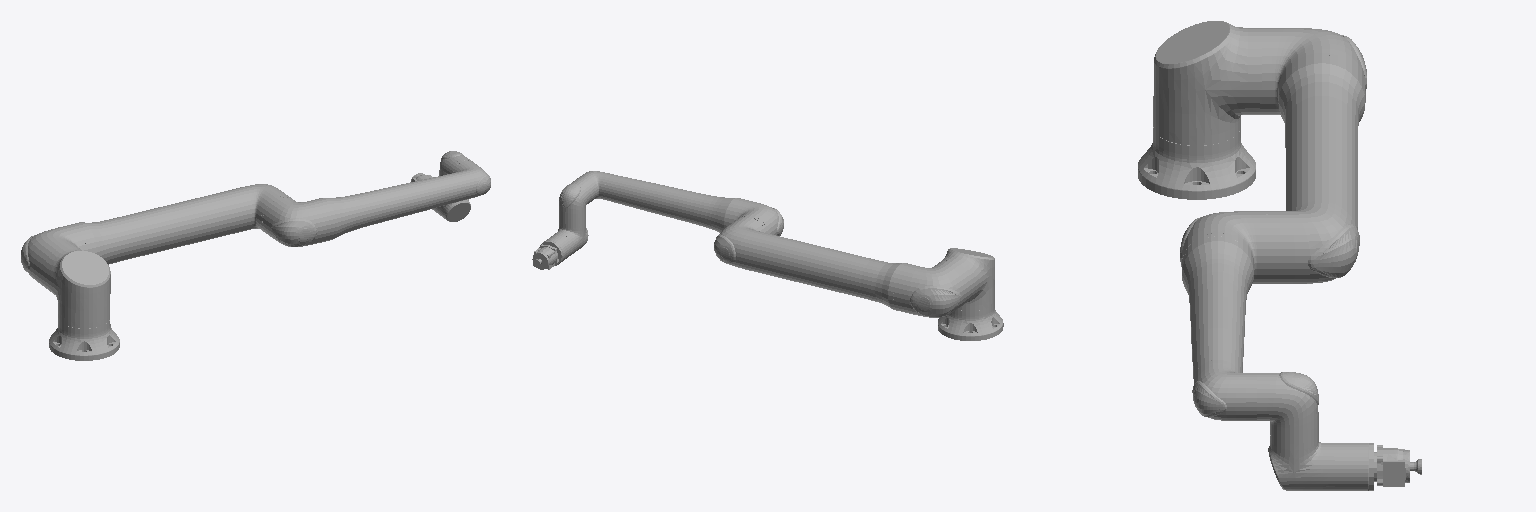
robot.urdf — ur20_robot:
<?xml version="1.0" ?>
<!-- =================================================================================== -->
<!-- |    This document was autogenerated by xacro from ur20.xacro                     | -->
<!-- |    EDITING THIS FILE BY HAND IS NOT RECOMMENDED                                 | -->
<!-- =================================================================================== -->
<robot name="ur20_robot">
  <!--
    Base UR robot series xacro macro.

    NOTE: this is NOT a URDF. It cannot directly be loaded by consumers
    expecting a flattened '.urdf' file. See the top-level '.xacro' for that
    (but note: that .xacro must still be processed by the xacro command).

    For use in '.launch' files: use one of the 'load_urX.launch' convenience
    launch files.

    This file models the base kinematic chain of a UR robot, which then gets
    parameterised by various configuration files to convert it into a UR3(e),
    UR5(e), UR10(e), UR16e, UR20 or UR30.

    NOTE: the default kinematic parameters (ie: link lengths, frame locations,
    offets, etc) do not correspond to any particular robot. They are defaults
    only. There WILL be non-zero offsets between the Forward Kinematics results
    in TF (ie: robot_state_publisher) and the values reported by the Teach
    Pendant.

    For accurate (and robot-specific) transforms, the 'kinematics_parameters_file'
    parameter MUST point to a .yaml file containing the appropriate values for
    the targetted robot.

    If using the UniversalRobots/Universal_Robots_ROS_Driver, follow the steps
    described in the readme of that repository to extract the kinematic
    calibration from the controller and generate the required .yaml file.

    Main author of the migration to yaml configs: Ludovic Delval.

    Contributors to previous versions (in no particular order):

     - Felix Messmer
     - Kelsey Hawkins
     - Wim Meeussen
     - Shaun Edwards
     - Nadia Hammoudeh Garcia
     - Dave Hershberger
     - G. vd. Hoorn
     - Philip Long
     - Dave Coleman
     - Miguel Prada
     - Mathias Luedtke
     - Marcel Schnirring
     - Felix von Drigalski
     - Felix Exner
     - Jimmy Da Silva
     - Ajit Krisshna N L
     - Muhammad Asif Rana
  -->
  <!--
    NOTE: the macro defined in this file is NOT part of the public API of this
          package. Users CANNOT rely on this file being available, or stored in
          this location. Nor can they rely on the existence of the macro.
  -->
  <transmission name="shoulder_pan_trans">
    <type>transmission_interface/SimpleTransmission</type>
    <joint name="shoulder_pan_joint">
      <hardwareInterface>hardware_interface/PositionJointInterface</hardwareInterface>
    </joint>
    <actuator name="shoulder_pan_motor">
      <mechanicalReduction>1</mechanicalReduction>
    </actuator>
  </transmission>
  <transmission name="shoulder_lift_trans">
    <type>transmission_interface/SimpleTransmission</type>
    <joint name="shoulder_lift_joint">
      <hardwareInterface>hardware_interface/PositionJointInterface</hardwareInterface>
    </joint>
    <actuator name="shoulder_lift_motor">
      <mechanicalReduction>1</mechanicalReduction>
    </actuator>
  </transmission>
  <transmission name="elbow_trans">
    <type>transmission_interface/SimpleTransmission</type>
    <joint name="elbow_joint">
      <hardwareInterface>hardware_interface/PositionJointInterface</hardwareInterface>
    </joint>
    <actuator name="elbow_motor">
      <mechanicalReduction>1</mechanicalReduction>
    </actuator>
  </transmission>
  <transmission name="wrist_1_trans">
    <type>transmission_interface/SimpleTransmission</type>
    <joint name="wrist_1_joint">
      <hardwareInterface>hardware_interface/PositionJointInterface</hardwareInterface>
    </joint>
    <actuator name="wrist_1_motor">
      <mechanicalReduction>1</mechanicalReduction>
    </actuator>
  </transmission>
  <transmission name="wrist_2_trans">
    <type>transmission_interface/SimpleTransmission</type>
    <joint name="wrist_2_joint">
      <hardwareInterface>hardware_interface/PositionJointInterface</hardwareInterface>
    </joint>
    <actuator name="wrist_2_motor">
      <mechanicalReduction>1</mechanicalReduction>
    </actuator>
  </transmission>
  <transmission name="wrist_3_trans">
    <type>transmission_interface/SimpleTransmission</type>
    <joint name="wrist_3_joint">
      <hardwareInterface>hardware_interface/PositionJointInterface</hardwareInterface>
    </joint>
    <actuator name="wrist_3_motor">
      <mechanicalReduction>1</mechanicalReduction>
    </actuator>
  </transmission>
  <!-- links: main serial chain -->
  <link name="base_link"/>
  <link name="base_link_inertia">
    <visual>
      <origin rpy="0 0 3.141592653589793" xyz="0 0 0"/>
      <geometry>
        <mesh filename="package://ur_description/meshes/ur20/visual/base.obj"/>
      </geometry>
      <material name="LightGrey">
        <color rgba="0.7 0.7 0.7 1.0"/>
      </material>
    </visual>
    <collision>
      <origin rpy="0 0 3.141592653589793" xyz="0 0 0"/>
      <geometry>
        <mesh filename="package://ur_description/meshes/ur20/collision/base.stl"/>
      </geometry>
    </collision>
    <inertial>
      <mass value="4.0"/>
      <origin rpy="0 0 0" xyz="0 0 0"/>
      <inertia ixx="0.0061063308908" ixy="0.0" ixz="0.0" iyy="0.0061063308908" iyz="0.0" izz="0.01125"/>
    </inertial>
  </link>
  <link name="shoulder_link">
    <visual>
      <origin rpy="0 0 3.141592653589793" xyz="0 0 0"/>
      <geometry>
        <mesh filename="package://ur_description/meshes/ur20/visual/shoulder.obj"/>
      </geometry>
      <material name="LightGrey">
        <color rgba="0.7 0.7 0.7 1.0"/>
      </material>
    </visual>
    <collision>
      <origin rpy="0 0 3.141592653589793" xyz="0 0 0"/>
      <geometry>
        <mesh filename="package://ur_description/meshes/ur20/collision/shoulder.stl"/>
      </geometry>
    </collision>
    <inertial>
      <mass value="16.343"/>
      <origin rpy="0 0 0" xyz="0 0 0"/>
      <inertia ixx="0.06613328496334209" ixy="0.0" ixz="0.0" iyy="0.06613328496334209" iyz="0.0" izz="0.0459646875"/>
    </inertial>
  </link>
  <link name="upper_arm_link">
    <visual>
      <origin rpy="1.5707963267948966 0 -1.5707963267948966" xyz="0 0 0.26"/>
      <geometry>
        <mesh filename="package://ur_description/meshes/ur20/visual/upperarm.obj"/>
      </geometry>
      <material name="LightGrey">
        <color rgba="0.7 0.7 0.7 1.0"/>
      </material>
    </visual>
    <collision>
      <origin rpy="1.5707963267948966 0 -1.5707963267948966" xyz="0 0 0.26"/>
      <geometry>
        <mesh filename="package://ur_description/meshes/ur20/collision/upperarm.stl"/>
      </geometry>
    </collision>
    <inertial>
      <mass value="29.632"/>
      <origin rpy="0 1.5707963267948966 0" xyz="-0.426 0.0 0.275"/>
      <inertia ixx="1.8341682103324226" ixy="0.0" ixz="0.0" iyy="1.8341682103324226" iyz="0.0" izz="0.08334"/>
    </inertial>
  </link>
  <link name="forearm_link">
    <visual>
      <origin rpy="1.5707963267948966 0 -1.5707963267948966" xyz="0 0 0.043"/>
      <geometry>
        <mesh filename="package://ur_description/meshes/ur20/visual/forearm.obj"/>
      </geometry>
      <material name="LightGrey">
        <color rgba="0.7 0.7 0.7 1.0"/>
      </material>
    </visual>
    <collision>
      <origin rpy="1.5707963267948966 0 -1.5707963267948966" xyz="0 0 0.043"/>
      <geometry>
        <mesh filename="package://ur_description/meshes/ur20/collision/forearm.stl"/>
      </geometry>
    </collision>
    <inertial>
      <mass value="7.879"/>
      <origin rpy="0 1.5707963267948966 0" xyz="-0.36435 0.0 0.043"/>
      <inertia ixx="0.35972787265129336" ixy="0.0" ixz="0.0" iyy="0.35972787265129336" iyz="0.0" izz="0.022159687499999997"/>
    </inertial>
  </link>
  <link name="wrist_1_link">
    <visual>
      <!-- TODO: Move this to a parameter -->
      <origin rpy="1.5707963267948966 0 0" xyz="0 0 -0.0775"/>
      <geometry>
        <mesh filename="package://ur_description/meshes/ur20/visual/wrist1.obj"/>
      </geometry>
      <material name="LightGrey">
        <color rgba="0.7 0.7 0.7 1.0"/>
      </material>
    </visual>
    <collision>
      <origin rpy="1.5707963267948966 0 0" xyz="0 0 -0.0775"/>
      <geometry>
        <mesh filename="package://ur_description/meshes/ur20/collision/wrist1.stl"/>
      </geometry>
    </collision>
    <inertial>
      <mass value="3.054"/>
      <origin rpy="0 0 0" xyz="0 0 0"/>
      <inertia ixx="0.007959484316204999" ixy="0.0" ixz="0.0" iyy="0.007959484316204999" iyz="0.0" izz="0.008589374999999998"/>
    </inertial>
  </link>
  <link name="wrist_2_link">
    <visual>
      <origin rpy="0 0 0" xyz="0 0 -0.0749"/>
      <geometry>
        <mesh filename="package://ur_description/meshes/ur20/visual/wrist2.obj"/>
      </geometry>
      <material name="LightGrey">
        <color rgba="0.7 0.7 0.7 1.0"/>
      </material>
    </visual>
    <collision>
      <origin rpy="0 0 0" xyz="0 0 -0.0749"/>
      <geometry>
        <mesh filename="package://ur_description/meshes/ur20/collision/wrist2.stl"/>
      </geometry>
    </collision>
    <inertial>
      <mass value="3.126"/>
      <origin rpy="0 0 0" xyz="0 0 0"/>
      <inertia ixx="0.008147134241144998" ixy="0.0" ixz="0.0" iyy="0.008147134241144998" iyz="0.0" izz="0.008791875"/>
    </inertial>
  </link>
  <link name="wrist_3_link">
    <visual>
      <origin rpy="1.5707963267948966 0 0" xyz="0 0 -0.07"/>
      <geometry>
        <mesh filename="package://ur_description/meshes/ur20/visual/wrist3.obj"/>
      </geometry>
      <material name="LightGrey">
        <color rgba="0.7 0.7 0.7 1.0"/>
      </material>
    </visual>
    <collision>
      <origin rpy="1.5707963267948966 0 0" xyz="0 0 -0.07"/>
      <geometry>
        <mesh filename="package://ur_description/meshes/ur20/collision/wrist3.stl"/>
      </geometry>
    </collision>
    <inertial>
      <mass value="0.846"/>
      <origin rpy="0 0 0" xyz="0.0 0.0 -0.025"/>
      <inertia ixx="0.000604537258185" ixy="0.0" ixz="0.0" iyy="0.000604537258185" iyz="0.0" izz="0.0008565749999999999"/>
    </inertial>
  </link>
  <!-- joints: main serial chain -->
  <joint name="base_link-base_link_inertia" type="fixed">
    <parent link="base_link"/>
    <child link="base_link_inertia"/>
    <!-- 'base_link' is REP-103 aligned (so X+ forward), while the internal
           frames of the robot/controller have X+ pointing backwards.
           Use the joint between 'base_link' and 'base_link_inertia' (a dummy
           link/frame) to introduce the necessary rotation over Z (of pi rad).
      -->
    <origin rpy="0 0 3.141592653589793" xyz="0 0 0"/>
  </joint>
  <joint name="shoulder_pan_joint" type="revolute">
    <parent link="base_link_inertia"/>
    <child link="shoulder_link"/>
    <origin rpy="0 0 0" xyz="0 0 0.2363"/>
    <axis xyz="0 0 1"/>
    <limit effort="730.0" lower="-6.283185307179586" upper="6.283185307179586" velocity="2.0943951023931953"/>
    <dynamics damping="0" friction="0"/>
  </joint>
  <joint name="shoulder_lift_joint" type="revolute">
    <parent link="shoulder_link"/>
    <child link="upper_arm_link"/>
    <origin rpy="1.570796327 0 0" xyz="0 0 0"/>
    <axis xyz="0 0 1"/>
    <limit effort="730.0" lower="-6.283185307179586" upper="6.283185307179586" velocity="2.0943951023931953"/>
    <dynamics damping="0" friction="0"/>
  </joint>
  <joint name="elbow_joint" type="revolute">
    <parent link="upper_arm_link"/>
    <child link="forearm_link"/>
    <origin rpy="0 0 0" xyz="-0.862 0 0"/>
    <axis xyz="0 0 1"/>
    <limit effort="430.0" lower="-3.141592653589793" upper="3.141592653589793" velocity="2.6179938779914944"/>
    <dynamics damping="0" friction="0"/>
  </joint>
  <joint name="wrist_1_joint" type="revolute">
    <parent link="forearm_link"/>
    <child link="wrist_1_link"/>
    <origin rpy="0 0 0" xyz="-0.7287 0 0.201"/>
    <axis xyz="0 0 1"/>
    <limit effort="100.0" lower="-6.283185307179586" upper="6.283185307179586" velocity="3.6651914291880923"/>
    <dynamics damping="0" friction="0"/>
  </joint>
  <joint name="wrist_2_joint" type="revolute">
    <parent link="wrist_1_link"/>
    <child link="wrist_2_link"/>
    <origin rpy="1.570796327 0 0" xyz="0 -0.1593 -3.267297616249225e-11"/>
    <axis xyz="0 0 1"/>
    <limit effort="100.0" lower="-6.283185307179586" upper="6.283185307179586" velocity="3.6651914291880923"/>
    <dynamics damping="0" friction="0"/>
  </joint>
  <joint name="wrist_3_joint" type="revolute">
    <parent link="wrist_2_link"/>
    <child link="wrist_3_link"/>
    <origin rpy="1.570796326589793 3.141592653589793 3.141592653589793" xyz="0 0.1543 -3.1647459019915597e-11"/>
    <axis xyz="0 0 1"/>
    <limit effort="100.0" lower="-6.283185307179586" upper="6.283185307179586" velocity="3.6651914291880923"/>
    <dynamics damping="0" friction="0"/>
  </joint>
  <!-- ROS-Industrial 'base' frame: base_link to UR 'Base' Coordinates transform -->
  <link name="base"/>
  <joint name="base_link-base_fixed_joint" type="fixed">
    <!-- Note the rotation over Z of pi radians: as base_link is REP-103
           aligned (ie: has X+ forward, Y+ left and Z+ up), this is needed
           to correctly align 'base' with the 'Base' coordinate system of
           the UR controller.
      -->
    <origin rpy="0 0 3.141592653589793" xyz="0 0 0"/>
    <parent link="base_link"/>
    <child link="base"/>
  </joint>
  <!-- ROS-Industrial 'flange' frame: attachment point for EEF models -->
  <link name="flange"/>
  <joint name="wrist_3-flange" type="fixed">
    <parent link="wrist_3_link"/>
    <child link="flange"/>
    <origin rpy="0 -1.5707963267948966 -1.5707963267948966" xyz="0 0 0"/>
  </joint>
  <!-- ROS-Industrial 'tool0' frame: all-zeros tool frame -->
  <link name="tool0"/>
  <joint name="flange-tool0" type="fixed">
    <!-- default toolframe: X+ left, Y+ up, Z+ front -->
    <origin rpy="1.5707963267948966 0 1.5707963267948966" xyz="0 0 0"/>
    <parent link="flange"/>
    <child link="tool0"/>
  </joint>
  <!-- === begin Piab gripper === -->
  <link name="piab_gripper">
    <visual>
      <origin xyz="0 0 0" rpy="0 0 0"/>
      <geometry>
        <mesh filename="package://ur_description/meshes/ur20/visual/piab_gripper.obj"/>
      </geometry>
      <material name="Gray">
        <color rgba="0.7 0.7 0.7 1.0"/>
      </material>
    </visual>
    <collision>
      <origin xyz="0 0 0" rpy="0 0 0"/>
      <geometry>
        <mesh filename="package://ur_description/meshes/ur20/collision/gripper_collision.stl"/>
      </geometry>
    </collision>
    <!-- inertial can be omitted (massless) or filled in if you know the gripper mass/inertia -->
  </link>
  <joint name="tool0_to_piab_gripper" type="fixed">
    <parent link="tool0"/>
    <child  link="piab_gripper"/>
    <!-- tcf.point = [-1.7e-13, -4.2e-17, 0.109815...] ≃ (0,0,0.109815) with identity axes -->
    <origin xyz="0 0 0" rpy="0 0 0"/>
  </joint>
  <!-- === end Piab gripper === -->
</robot>

--- Render facts (derived) ---
Views: 3 orthographic renders of the robot side by side, from view 1: azimuth 30°, elevation 25°; view 2: azimuth 150°, elevation 25°; view 3: azimuth 270°, elevation 25°.
Model ur20_robot with 12 links and 11 joints (6 revolute, 5 fixed), rooted at base_link, posed every joint at zero.
Links seen in each view (by area): view 1: upper_arm_link, forearm_link, shoulder_link, base_link_inertia, wrist_2_link; view 2: upper_arm_link, forearm_link, shoulder_link, base_link_inertia, wrist_1_link, piab_gripper, wrist_2_link; view 3: upper_arm_link, forearm_link, shoulder_link, base_link_inertia, wrist_1_link, wrist_2_link, piab_gripper, wrist_3_link.
Boxes of the visible links, x1,y1,x2,y2 form: upper_arm_link: [21, 184, 290, 288]; forearm_link: [261, 160, 490, 246]; shoulder_link: [42, 246, 110, 328]; base_link_inertia: [49, 318, 119, 360]; wrist_2_link: [432, 199, 470, 221]; upper_arm_link: [714, 216, 972, 317]; forearm_link: [577, 171, 783, 235]; shoulder_link: [939, 248, 994, 310]; base_link_inertia: [938, 302, 1003, 340]; wrist_1_link: [559, 179, 593, 224]; piab_gripper: [532, 241, 562, 269]; wrist_2_link: [555, 220, 588, 255]; upper_arm_link: [1259, 28, 1366, 283]; forearm_link: [1180, 211, 1268, 420]; shoulder_link: [1153, 21, 1261, 145]; base_link_inertia: [1138, 127, 1255, 199]; wrist_1_link: [1257, 372, 1318, 443]; wrist_2_link: [1268, 434, 1334, 490]; piab_gripper: [1369, 443, 1421, 490]; wrist_3_link: [1335, 443, 1368, 490].
Size in the robot's own frame: 1.77 by 0.5876 by 0.333 metres.
Meshes: 8 distinct files referenced, 8 mesh visuals loaded (8 OBJ).
